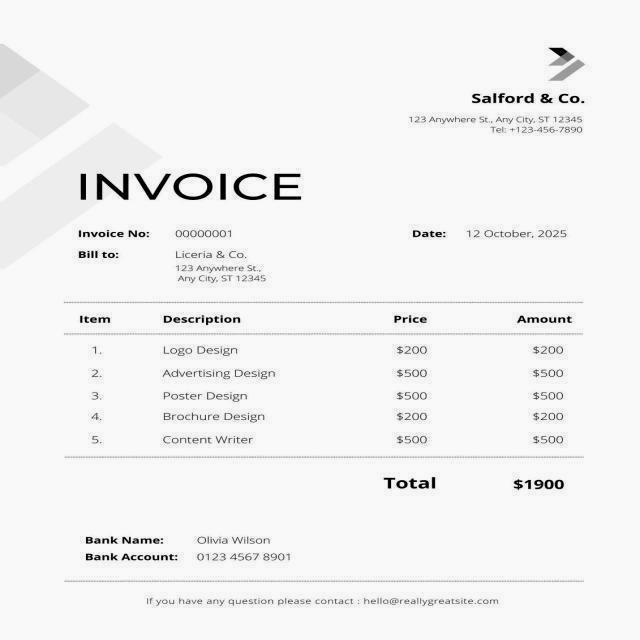paragraph: (63, 299, 587, 460), (79, 168, 305, 212), (81, 533, 298, 569), (76, 250, 275, 284), (140, 596, 500, 611), (380, 473, 566, 496), (407, 113, 588, 135), (411, 223, 570, 244), (465, 86, 589, 108), (75, 227, 244, 242)
